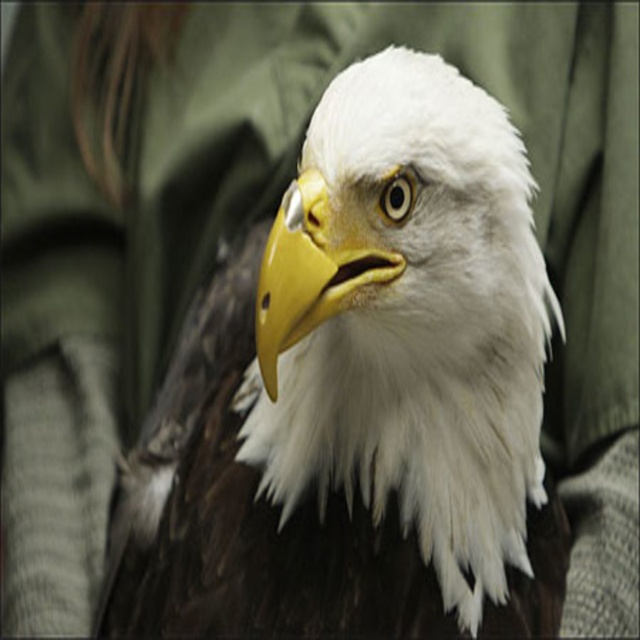Eagle: (107, 46, 576, 638)
